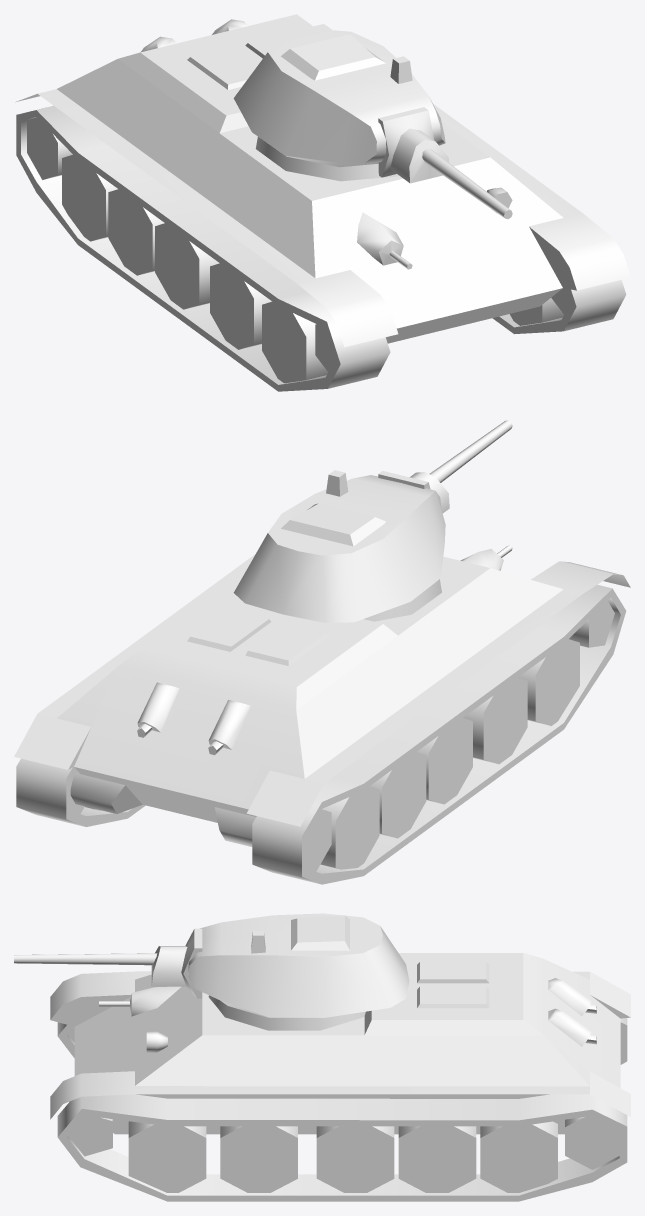
The model's file is t-34_low-poly_tank.glb.
3 views of the same model, one above another, from view 1: azimuth 30°, elevation 25°; view 2: azimuth 150°, elevation 25°; view 3: azimuth 270°, elevation 25° (orthographic). The views are drawn at different scales.
Parts seen in each view (by area): view 1: Hull_Material_0, Tracks_Material_0, Turret_Material_0, Gun_Material_0; view 2: Hull_Material_0, Tracks_Material_0, Turret_Material_0, Gun_Material_0; view 3: Hull_Material_0, Tracks_Material_0, Turret_Material_0, Gun_Material_0.
Boxes of the visible parts, <box> form: Hull_Material_0: <box>15,14,630,347</box>; Tracks_Material_0: <box>16,105,626,391</box>; Turret_Material_0: <box>233,29,445,181</box>; Gun_Material_0: <box>378,107,512,219</box>; Hull_Material_0: <box>14,545,630,846</box>; Tracks_Material_0: <box>16,584,626,884</box>; Turret_Material_0: <box>233,470,445,622</box>; Gun_Material_0: <box>378,420,512,513</box>; Hull_Material_0: <box>50,953,630,1134</box>; Tracks_Material_0: <box>57,1018,627,1201</box>; Turret_Material_0: <box>188,913,409,1030</box>; Gun_Material_0: <box>14,928,202,998</box>.
Bounding box in the file's own units: 2.34 × 1.96 × 4.96.
1 material, 1 textured.
